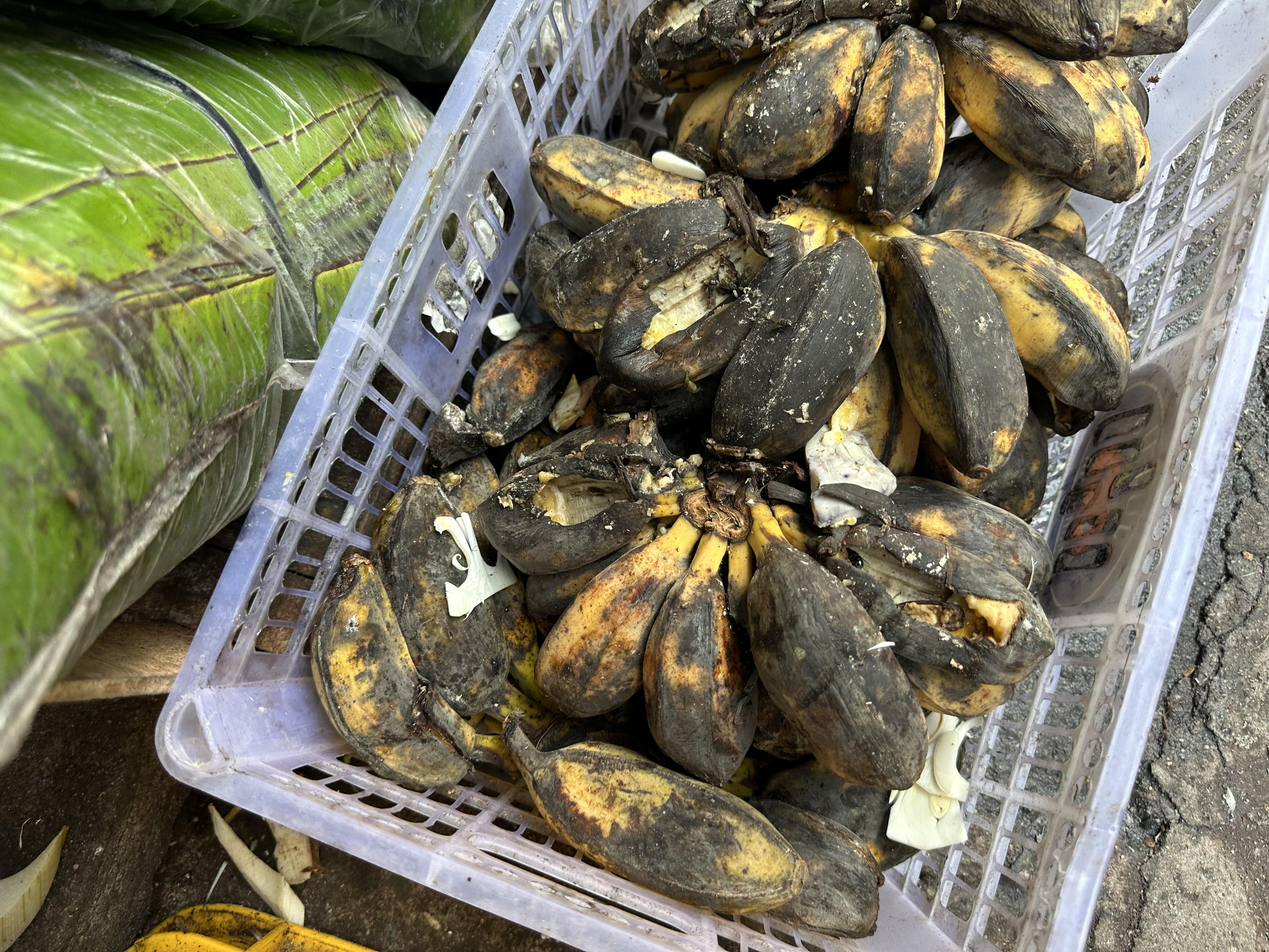overripe: (526, 135, 1131, 522), (634, 0, 1198, 225), (526, 517, 926, 789), (309, 454, 535, 790)
